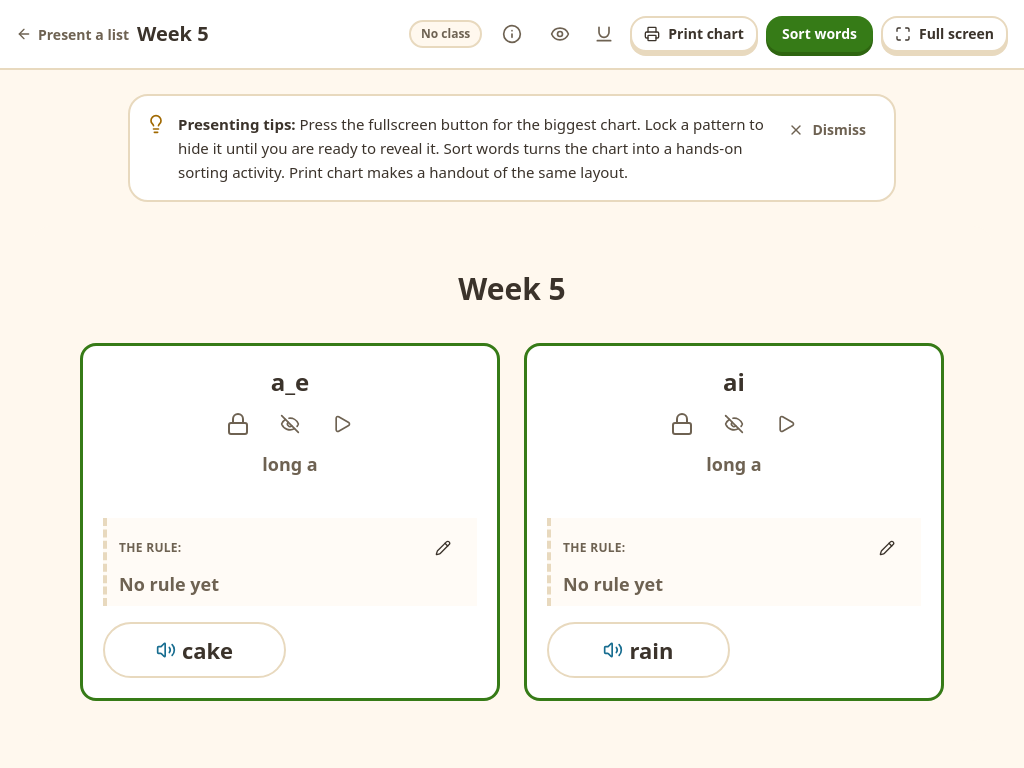
Test: DisplayMode › toggles the frequency row optimistically and persists via updateList (issue #510)
Click the button named "Show frequency for pattern a_e". click: [290, 424]
box: [268,402,312,446]
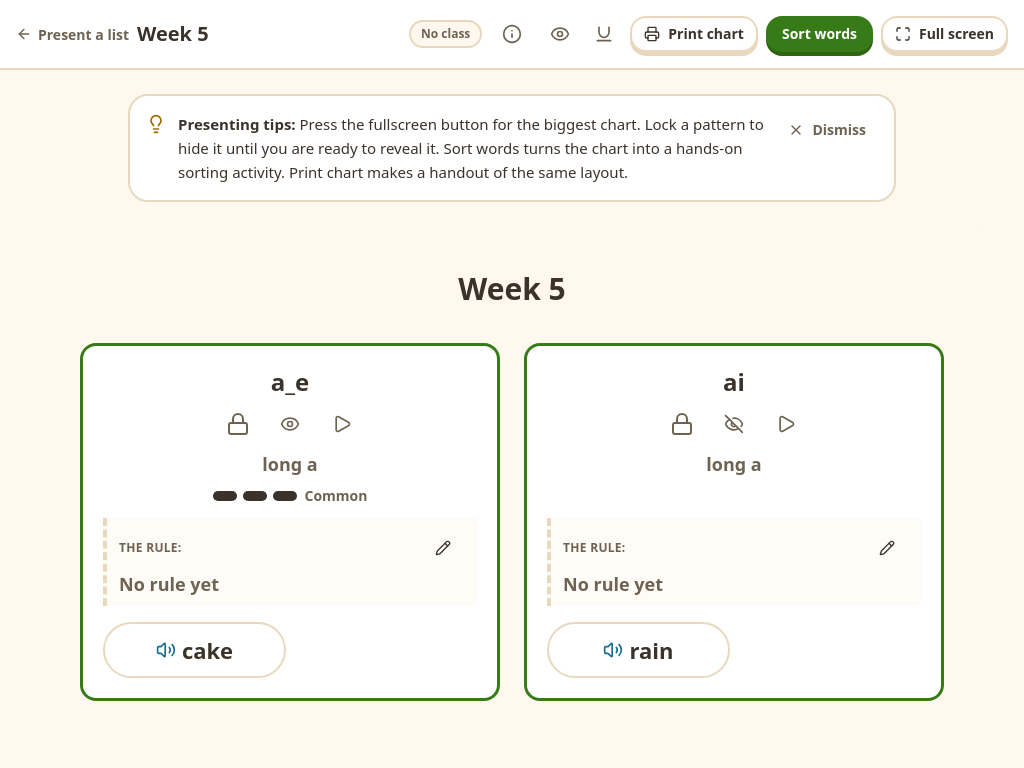
Check: the picture named "Frequency: Common" is shown, box [212,491,296,501]
